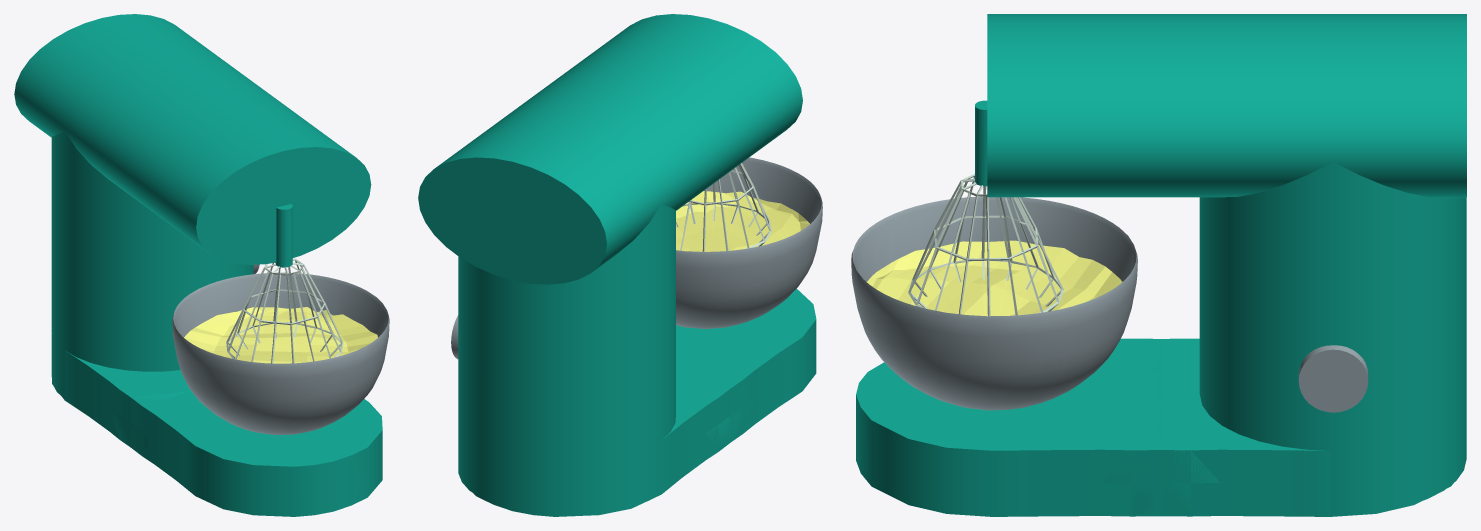
File: blender_on.gltf
3 renders of one model, left to right at view 1: azimuth 30°, elevation 25°; view 2: azimuth 150°, elevation 25°; view 3: azimuth 270°, elevation 25°, orthographic. The views are drawn at different scales.
Parts seen in each view (by area): view 1: Sphere, Sphere.001; view 2: Sphere, Sphere.001; view 3: Sphere, Sphere.001.
Part boxes in pixels (x1,y1,x2,y2): Sphere: (14,14,389,516); Sphere.001: (184,307,377,363); Sphere: (418,14,822,516); Sphere.001: (676,191,809,251); Sphere: (851,14,1466,516); Sphere.001: (867,240,1122,316).
Bounding box in the file's own units: 2.15 × 3.54 × 4.61.
Materials: 5 (5 with a texture image).
